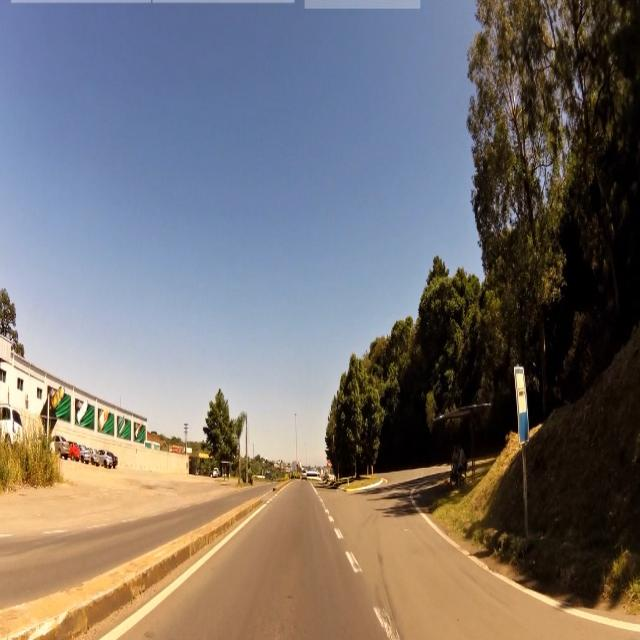S-14: (513, 366, 532, 442)
